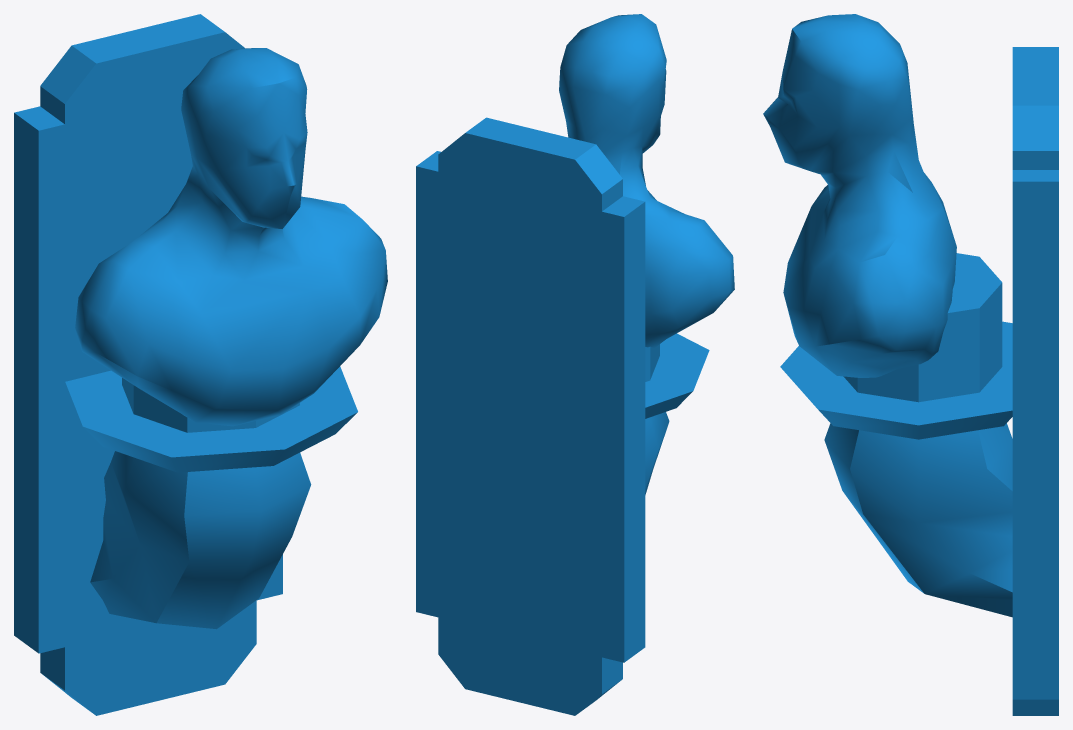
Rendered from wall_statue.fbx.
3 renders of one model, left to right at view 1: azimuth 30°, elevation 25°; view 2: azimuth 150°, elevation 25°; view 3: azimuth 270°, elevation 25°, orthographic. The views are drawn at different scales.
Visible parts, largest first — view 1: wall_statue; view 2: wall_statue; view 3: wall_statue.
Boxes of the visible parts, <box> form: wall_statue: <box>14,14,387,715</box>; wall_statue: <box>416,14,734,715</box>; wall_statue: <box>763,14,1058,715</box>.
Bounding box in the file's own units: 54.96 × 124 × 50.18.
